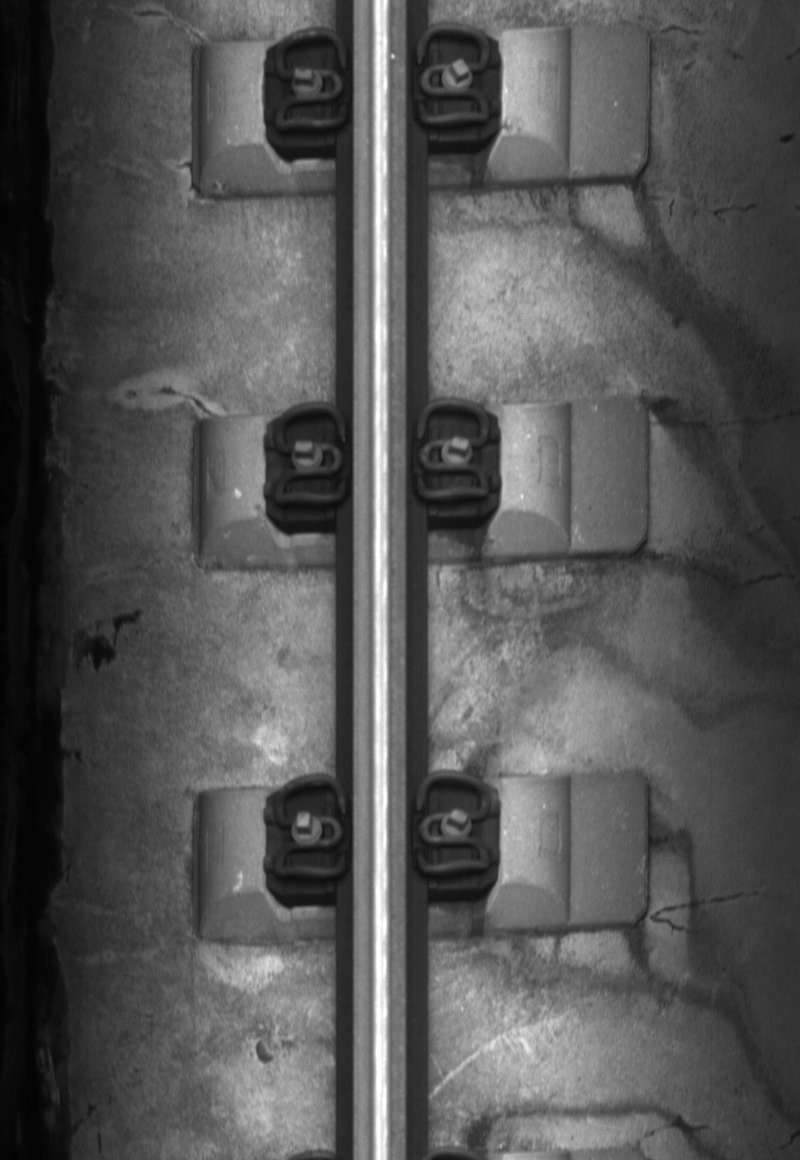l_faster: (267, 25, 353, 138), (268, 398, 353, 512), (268, 771, 353, 885)
r_faster: (412, 21, 495, 132), (412, 395, 494, 506), (411, 768, 492, 880)
